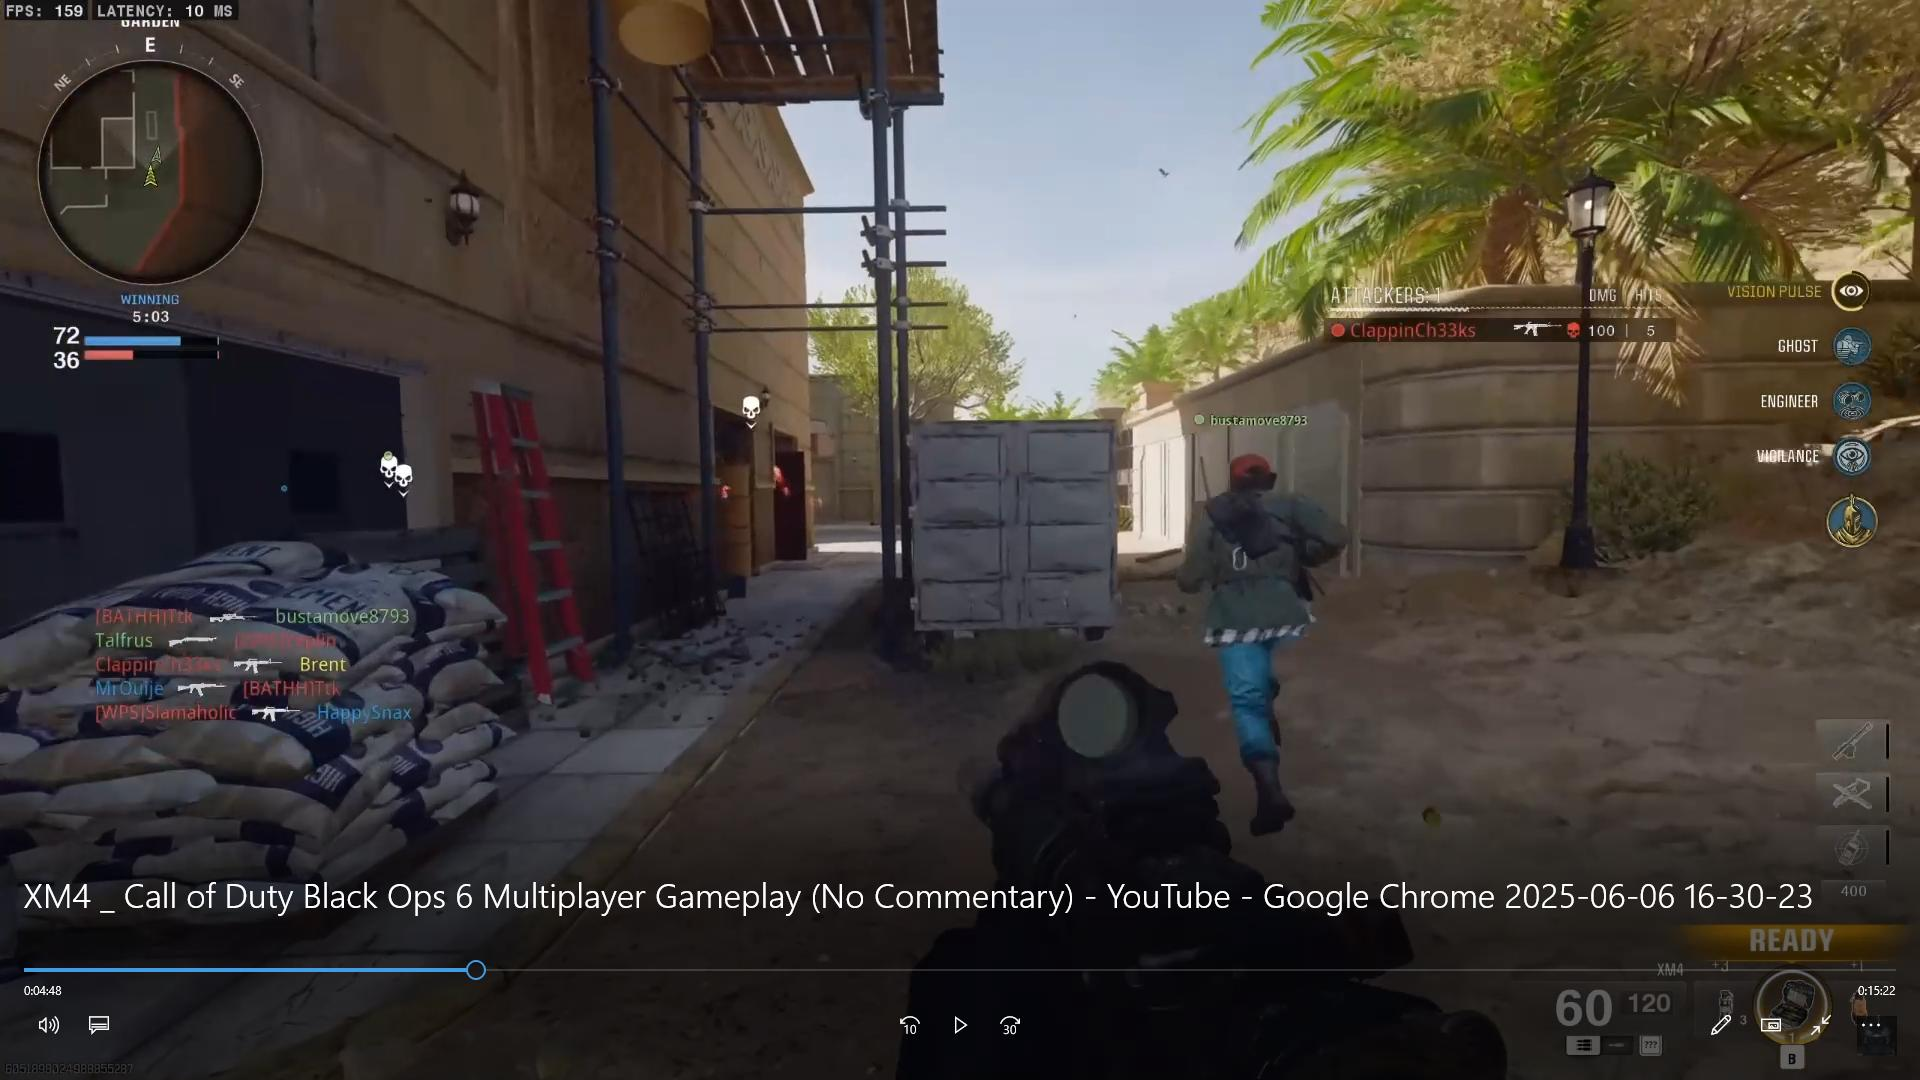Enemy: (1183, 436, 1349, 837)
